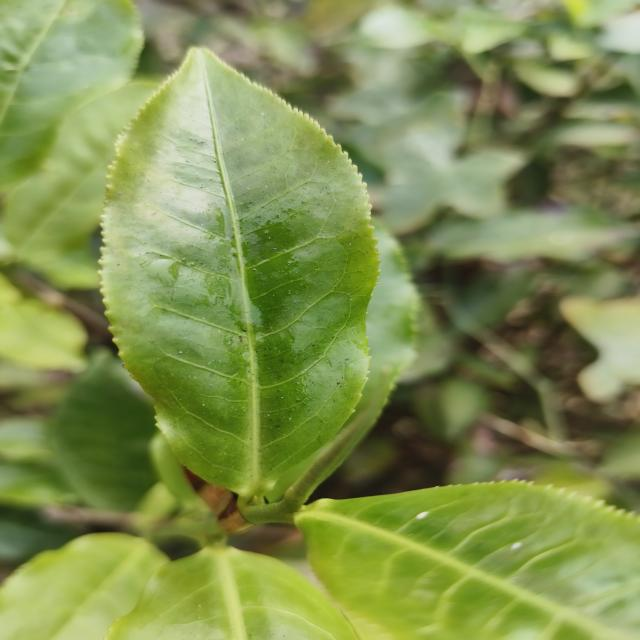Leaf: (101, 49, 378, 511), (296, 481, 640, 640), (5, 80, 156, 288), (0, 0, 142, 188), (106, 545, 356, 640), (0, 533, 168, 640), (48, 349, 157, 511), (431, 210, 637, 261)
